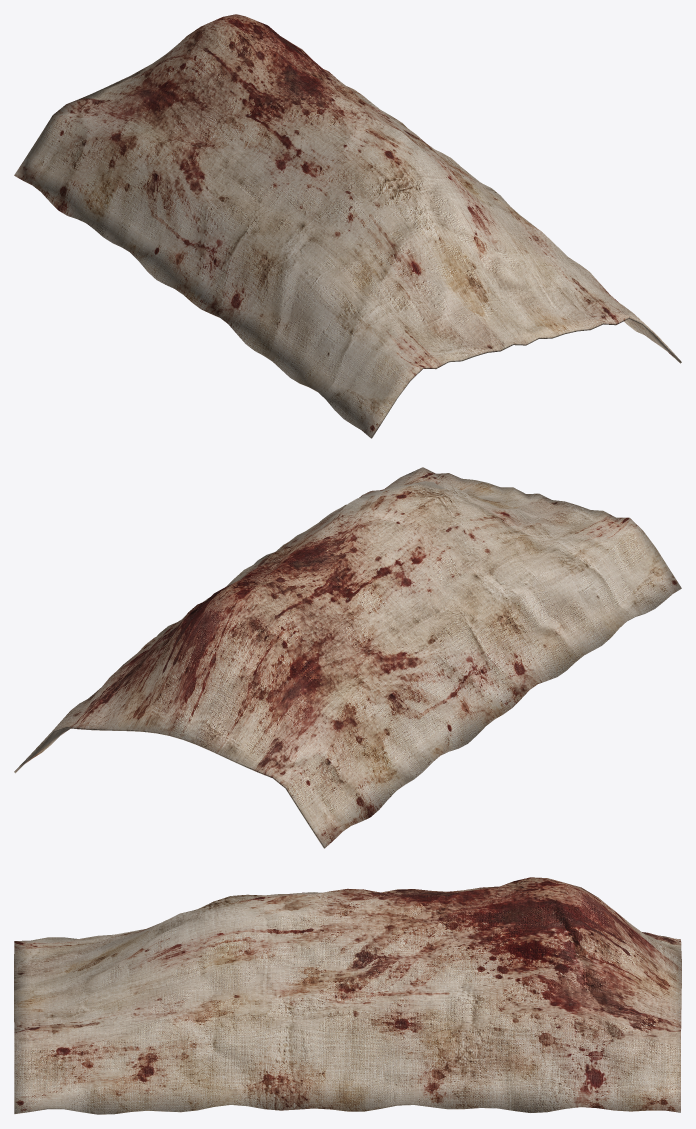
File: hospital_shroud.glb
3 renders of one model, top to bottom at view 1: azimuth 30°, elevation 25°; view 2: azimuth 150°, elevation 25°; view 3: azimuth 270°, elevation 25°, orthographic. The views are drawn at different scales.
Parts seen in each view (by area): view 1: hospital_shroud; view 2: hospital_shroud; view 3: hospital_shroud.
Boxes of the visible parts, <box> form: hospital_shroud: <box>14,14,681,438</box>; hospital_shroud: <box>14,467,681,848</box>; hospital_shroud: <box>14,877,681,1114</box>.
Size of the model in its own units: 1.01 by 0.5326 by 2.
Materials: 1 (1 with a texture image).
